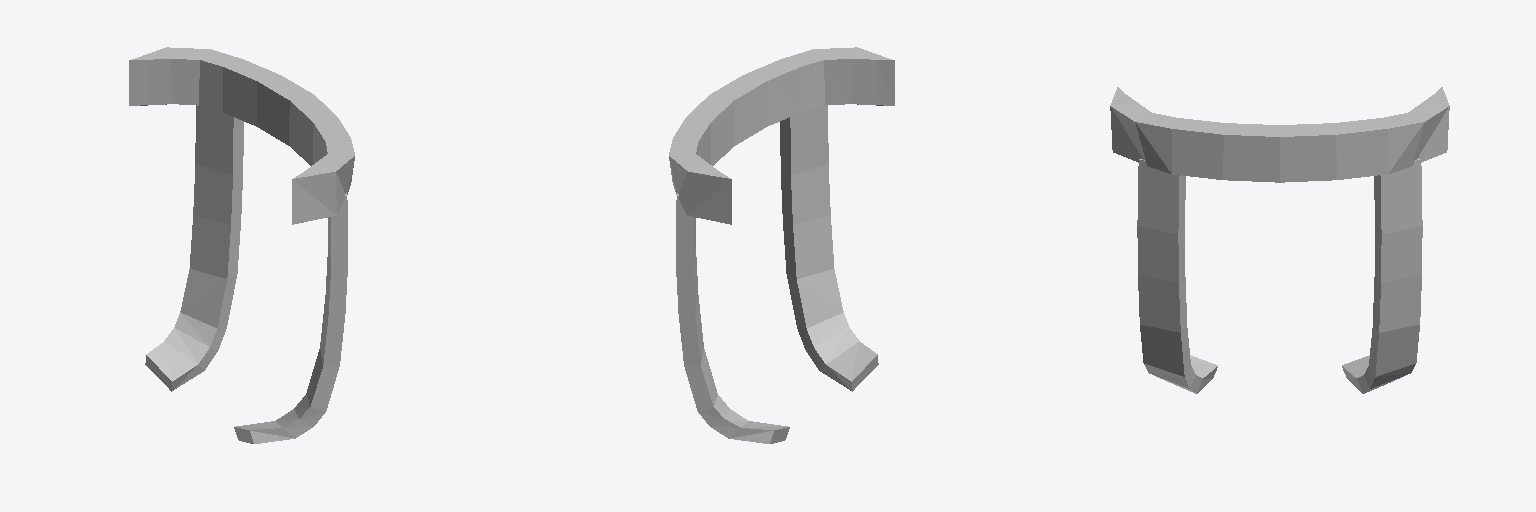
File: Option9_P.obj
The picture shows the model from 3 angles: view 1: azimuth 30°, elevation 25°; view 2: azimuth 150°, elevation 25°; view 3: azimuth 270°, elevation 25°; orthographic projection.
Parts seen in each view (by area): view 1: back3; view 2: back3; view 3: back3.
Part boxes in pixels (x1,y1,x2,y2): back3: (129, 47, 354, 443); back3: (669, 47, 894, 443); back3: (1110, 87, 1449, 393).
Bounding box in the file's own units: 0.9084 × 2.21 × 2.3.